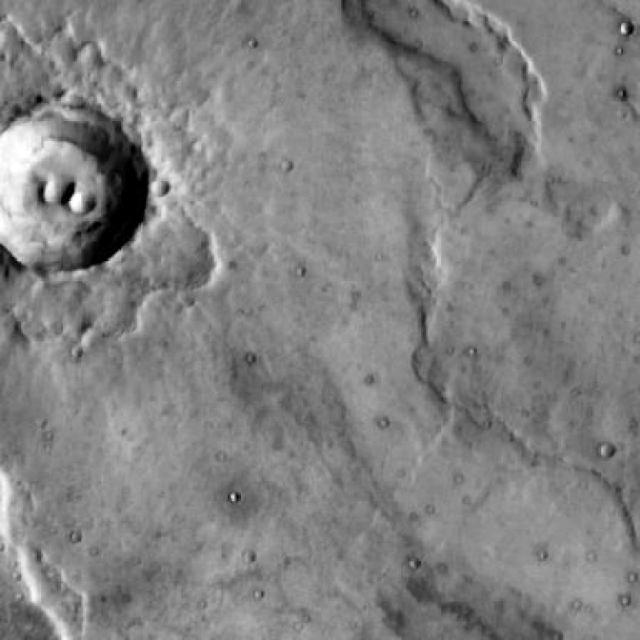crater: (421, 93, 640, 486), (0, 101, 143, 268), (64, 189, 88, 213), (142, 176, 166, 195)
